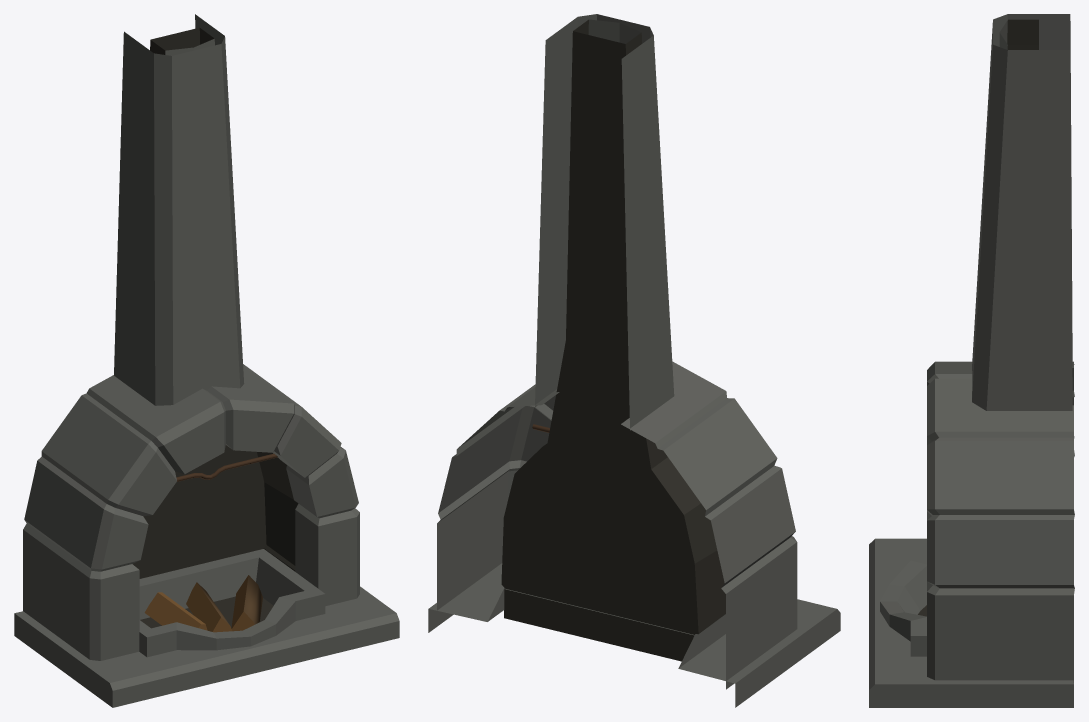
The model's file is chimney_fireplace.gltf.
3 renders of one model, left to right at view 1: azimuth 30°, elevation 25°; view 2: azimuth 150°, elevation 25°; view 3: azimuth 270°, elevation 25°, orthographic. The views are drawn at different scales.
Visible parts, largest first — view 1: Fireplace; view 2: Fireplace; view 3: Fireplace.
Boxes of the visible parts, x1,y1,x2,y2 form: Fireplace: (14,14,399,707); Fireplace: (428,14,840,707); Fireplace: (869,14,1074,707).
Bounding box in the file's own units: 2.25 × 4.34 × 1.34.
3 materials, 3 textured.
